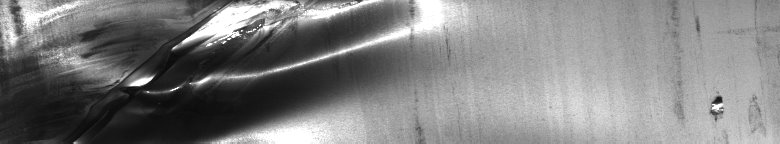ke: (4, 4, 414, 136)
